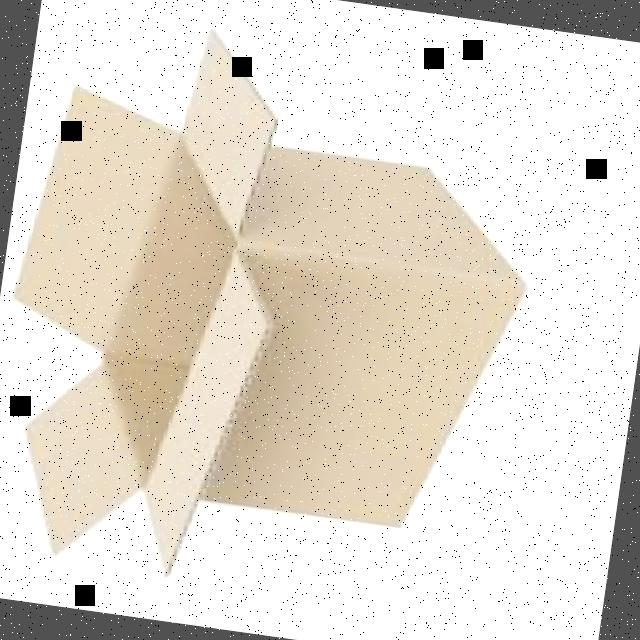cardboard_box: (0, 0, 560, 625)
